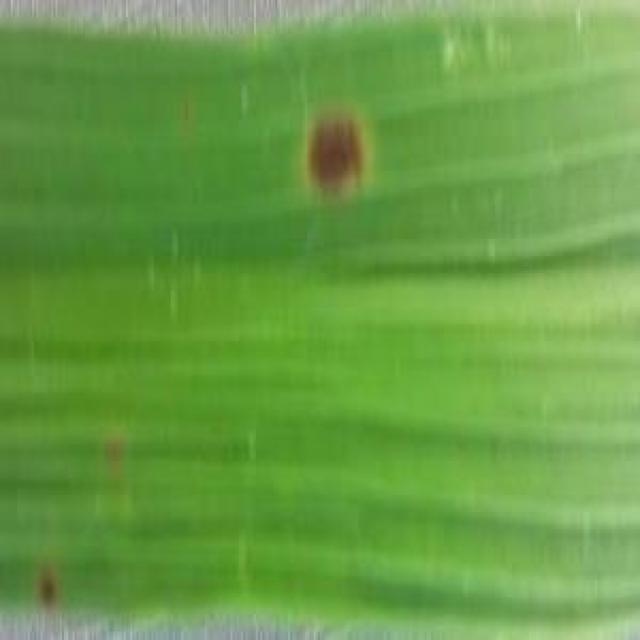brownspots: (290, 110, 382, 198), (28, 563, 79, 602)
